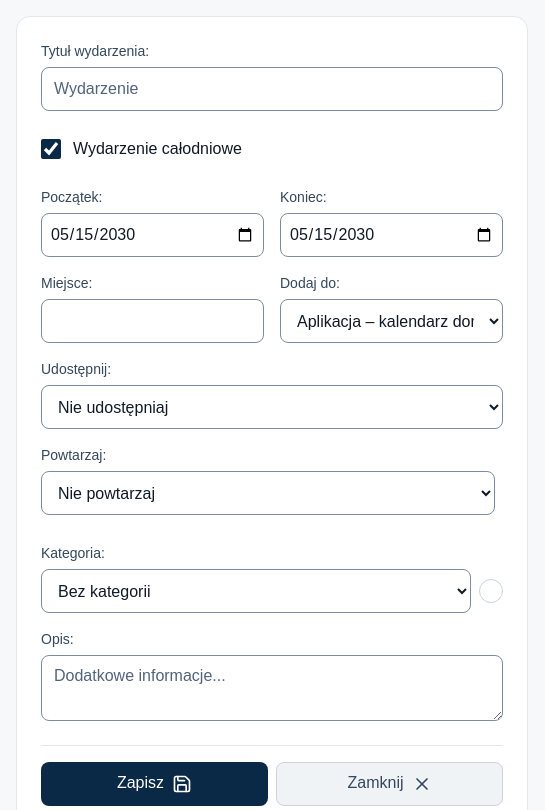
Test: EventForm – godziny wydarzenia › wydarzenie nie-całodniowe domyślnie trwa godzinę
The width and height of the screenshot is (545, 810).
Click the checkbox labelled "Wydarzenie całodniowe". click: (51, 149)
box: [41,139,61,159]
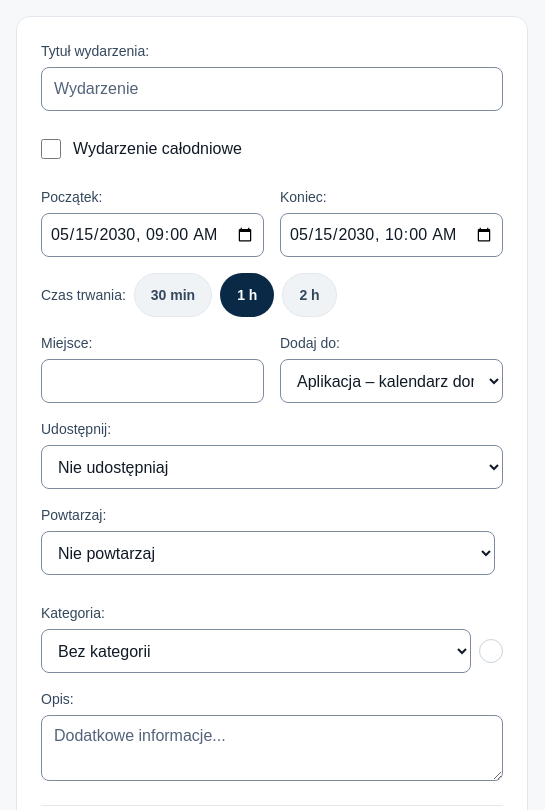
Check: the field labelled "Początek:" holds "2030-05-15T09:00", box [41,213,264,257]
Check: the field labelled "Koniec:" holds "2030-05-15T10:00", box [280,213,503,257]
